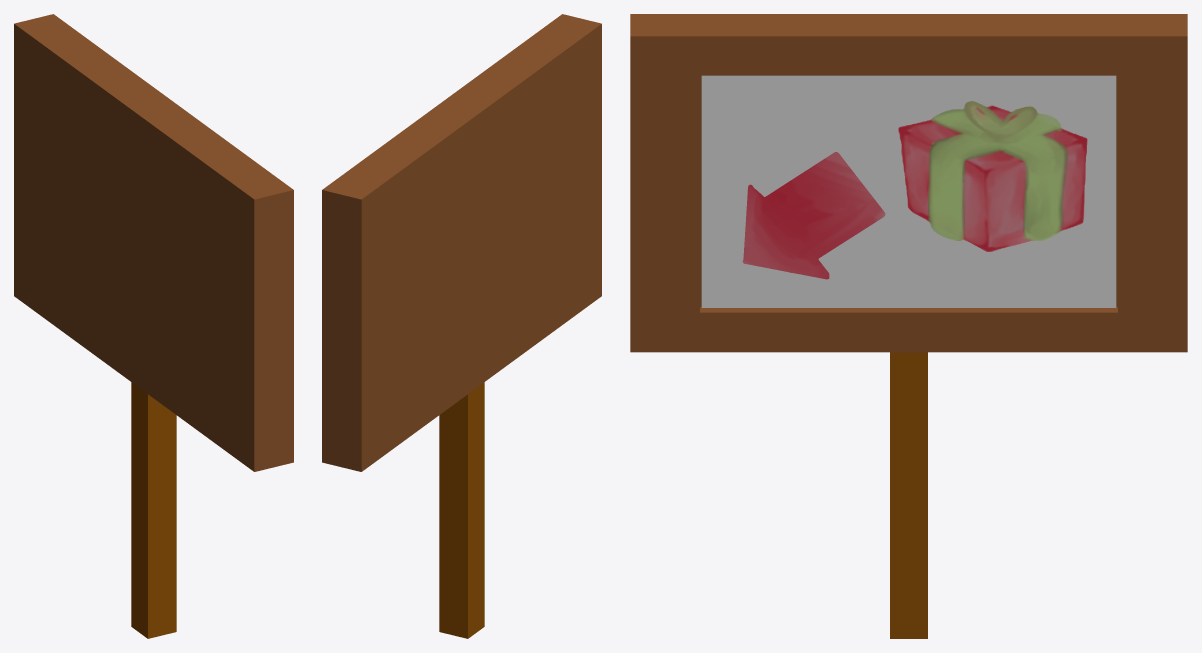
The model's file is sign5.fbx.
3 views of the same model, side by side, from view 1: azimuth 30°, elevation 25°; view 2: azimuth 150°, elevation 25°; view 3: azimuth 270°, elevation 25° (orthographic). The views are drawn at different scales.
Parts seen in each view (by area): view 1: Cube, Cube.001; view 2: Cube, Cube.001; view 3: Cube, Plane, paket.001, Cube.001, PIL.001.
Part boxes in pixels (x1=…): Cube: x1=14, y1=14, x2=293, y2=471; Cube.001: x1=131, y1=382, x2=176, y2=638; Cube: x1=322, y1=14, x2=601, y2=471; Cube.001: x1=439, y1=382, x2=484, y2=638; Cube: x1=630, y1=14, x2=1187, y2=352; Plane: x1=701, y1=75, x2=1116, y2=307; paket.001: x1=898, y1=100, x2=1087, y2=251; Cube.001: x1=890, y1=352, x2=927, y2=638; PIL.001: x1=742, y1=152, x2=885, y2=279.
Bounding box in the file's own units: 54.47 × 689 × 574.
